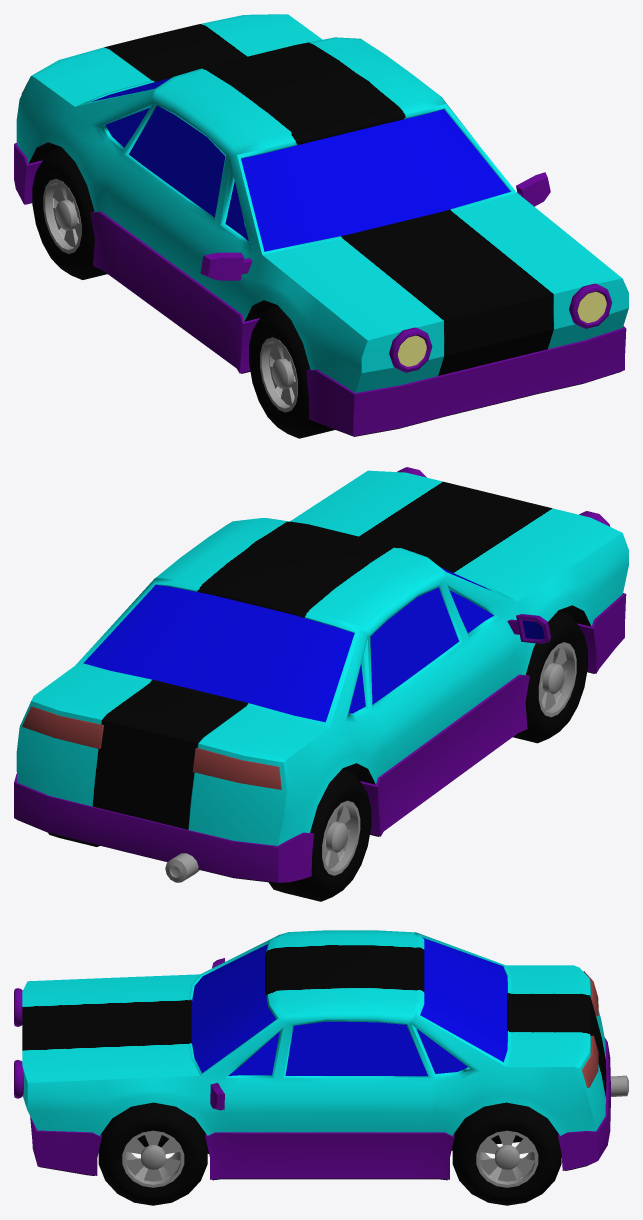
The model's file is Muscle Evolution1 Purple LineBlackCyan Blue LightGrey.gltf.
The picture shows the model from 3 angles, top to bottom: view 1: azimuth 30°, elevation 25°; view 2: azimuth 150°, elevation 25°; view 3: azimuth 270°, elevation 25°; orthographic projection. The views are drawn at different scales.
Parts seen in each view (by area): view 1: evo1_body4_f1_dupl, evo1_sill0_f1_dupl, evo1_frontGlass_f1_dupl, evo1_glasseBigR_f1_dupl, evo1_tire_rf_f1_dupl, evo1_tire_rf1_f1_dupl, evo1_rim_A_rb_f1_dupl, evo1_rim_A_rf_f1_dupl, evo1_mirorR3_f1_dupl, evo1_blockLightR_f1_dupl, evo1_blockLightL_f1_dupl, evo1_mirorL3_f1_dupl (+4 smaller); view 2: evo1_body4_f1_dupl, evo1_sill0_f1_dupl, evo1_BackGlassGlass_f1_dupl, evo1_glasseBigR_f1_dupl, evo1_tire_rf_f1_dupl, evo1_tire_rf1_f1_dupl, evo1_rim_A_rf_f1_dupl, evo1_rim_A_rb_f1_dupl, evo1_redlightR2_f1_dupl, evo1_redlightL2_f1_dupl, evo1_glassfR_f1_dupl, evo1_pipe1_f1_dupl (+1 smaller); view 3: evo1_body4_f1_dupl, evo1_sill0_f1_dupl, evo1_BackGlassGlass_f1_dupl, evo1_glasseBigL_f1_dupl, evo1_frontGlass_f1_dupl, evo1_tire_lb_f1_dupl, evo1_tire_lf_f1_dupl, evo1_rim_A_lf_f1_dupl, evo1_rim_A_lb_f1_dupl, evo1_glassfL_f1_dupl, evo1_glassbL_f1_dupl, evo1_GroundBody_f1_dupl (+1 smaller).
Boxes of the visible parts, x1=… form: evo1_body4_f1_dupl: x1=16, y1=14, x2=628, y2=392; evo1_sill0_f1_dupl: x1=14, y1=143, x2=626, y2=436; evo1_frontGlass_f1_dupl: x1=241, y1=109, x2=510, y2=251; evo1_glasseBigR_f1_dupl: x1=128, y1=105, x2=225, y2=217; evo1_tire_rf_f1_dupl: x1=32, y1=147, x2=107, y2=279; evo1_tire_rf1_f1_dupl: x1=249, y1=306, x2=334, y2=438; evo1_rim_A_rb_f1_dupl: x1=43, y1=179, x2=81, y2=253; evo1_rim_A_rf_f1_dupl: x1=260, y1=337, x2=297, y2=412; evo1_mirorR3_f1_dupl: x1=200, y1=252, x2=252, y2=280; evo1_blockLightR_f1_dupl: x1=389, y1=327, x2=432, y2=372; evo1_blockLightL_f1_dupl: x1=569, y1=283, x2=612, y2=328; evo1_mirorL3_f1_dupl: x1=516, y1=172, x2=550, y2=206; evo1_body4_f1_dupl: x1=16, y1=470, x2=628, y2=845; evo1_sill0_f1_dupl: x1=14, y1=593, x2=626, y2=882; evo1_BackGlassGlass_f1_dupl: x1=83, y1=584, x2=354, y2=722; evo1_glasseBigR_f1_dupl: x1=370, y1=587, x2=458, y2=704; evo1_tire_rf_f1_dupl: x1=268, y1=769, x2=371, y2=901; evo1_tire_rf1_f1_dupl: x1=513, y1=610, x2=587, y2=743; evo1_rim_A_rf_f1_dupl: x1=538, y1=642, x2=576, y2=717; evo1_rim_A_rb_f1_dupl: x1=322, y1=800, x2=360, y2=875; evo1_redlightR2_f1_dupl: x1=192, y1=748, x2=281, y2=789; evo1_redlightL2_f1_dupl: x1=22, y1=706, x2=103, y2=748; evo1_glassfR_f1_dupl: x1=449, y1=590, x2=493, y2=632; evo1_pipe1_f1_dupl: x1=165, y1=853, x2=199, y2=882; evo1_body4_f1_dupl: x1=22, y1=930, x2=606, y2=1152; evo1_sill0_f1_dupl: x1=30, y1=1037, x2=610, y2=1179; evo1_BackGlassGlass_f1_dupl: x1=420, y1=937, x2=507, y2=1061; evo1_glasseBigL_f1_dupl: x1=285, y1=1021, x2=427, y2=1076; evo1_frontGlass_f1_dupl: x1=191, y1=944, x2=276, y2=1073; evo1_tire_lb_f1_dupl: x1=452, y1=1102, x2=561, y2=1205; evo1_tire_lf_f1_dupl: x1=98, y1=1102, x2=207, y2=1205; evo1_rim_A_lf_f1_dupl: x1=122, y1=1130, x2=184, y2=1187; evo1_rim_A_lb_f1_dupl: x1=476, y1=1130, x2=538, y2=1187; evo1_glassfL_f1_dupl: x1=228, y1=1032, x2=279, y2=1075; evo1_glassbL_f1_dupl: x1=416, y1=1028, x2=467, y2=1073; evo1_GroundBody_f1_dupl: x1=40, y1=1140, x2=594, y2=1180.
Bounding box in the file's own units: 177 × 112 × 331.
7 materials, 1 textured.
